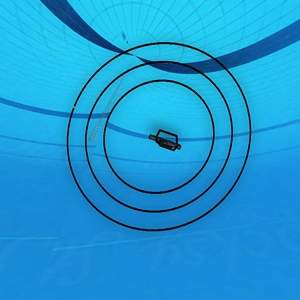circle: (63, 42, 249, 227)
submarine: (150, 127, 181, 153)
